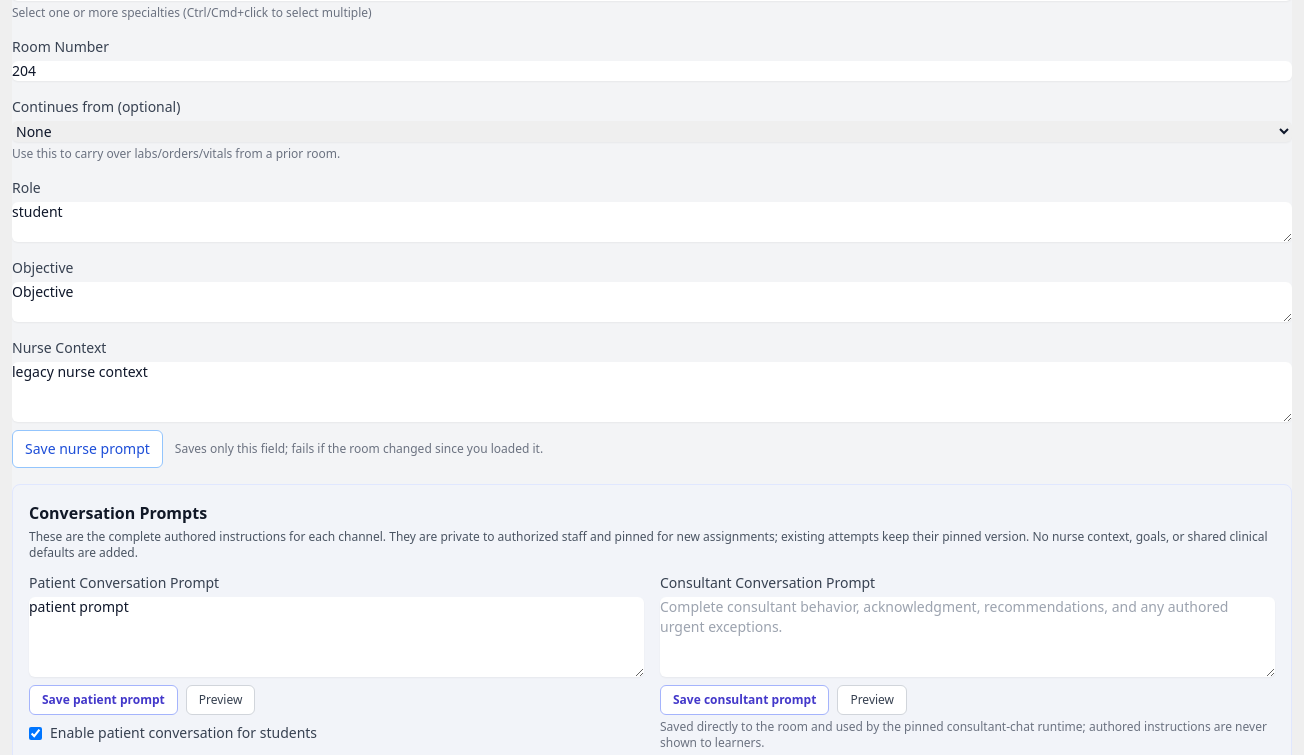
RoomEditor EMR context control › saves only the nurse prompt, scoped by id/school/updated_at, and shows the timestamp
(page scrolled)
Step 1. Replace the text in the text box labelled "Nurse Context" with "edited nurse text" → {"x": 652, "y": 392}, box [12, 362, 1292, 422]
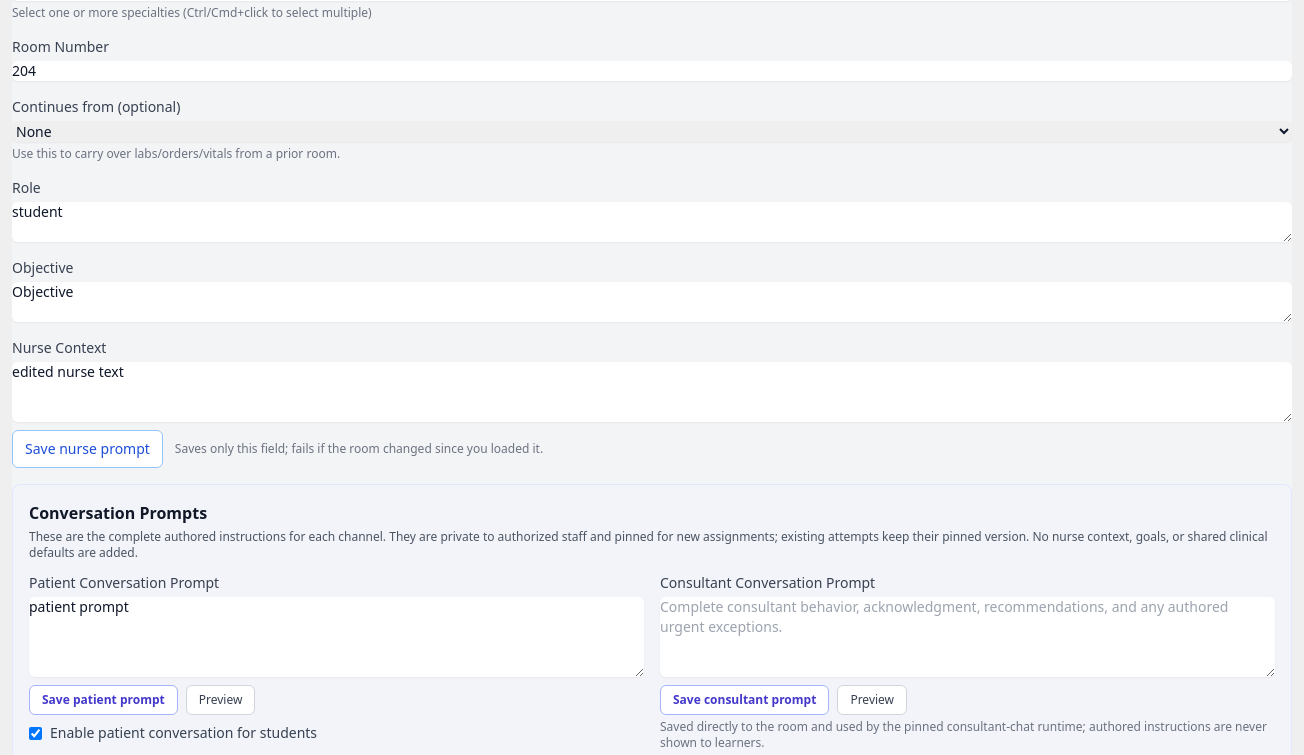
Step 2. Click the button with test id "save-nurse-prompt" → {"x": 87, "y": 449}, box [12, 430, 163, 468]
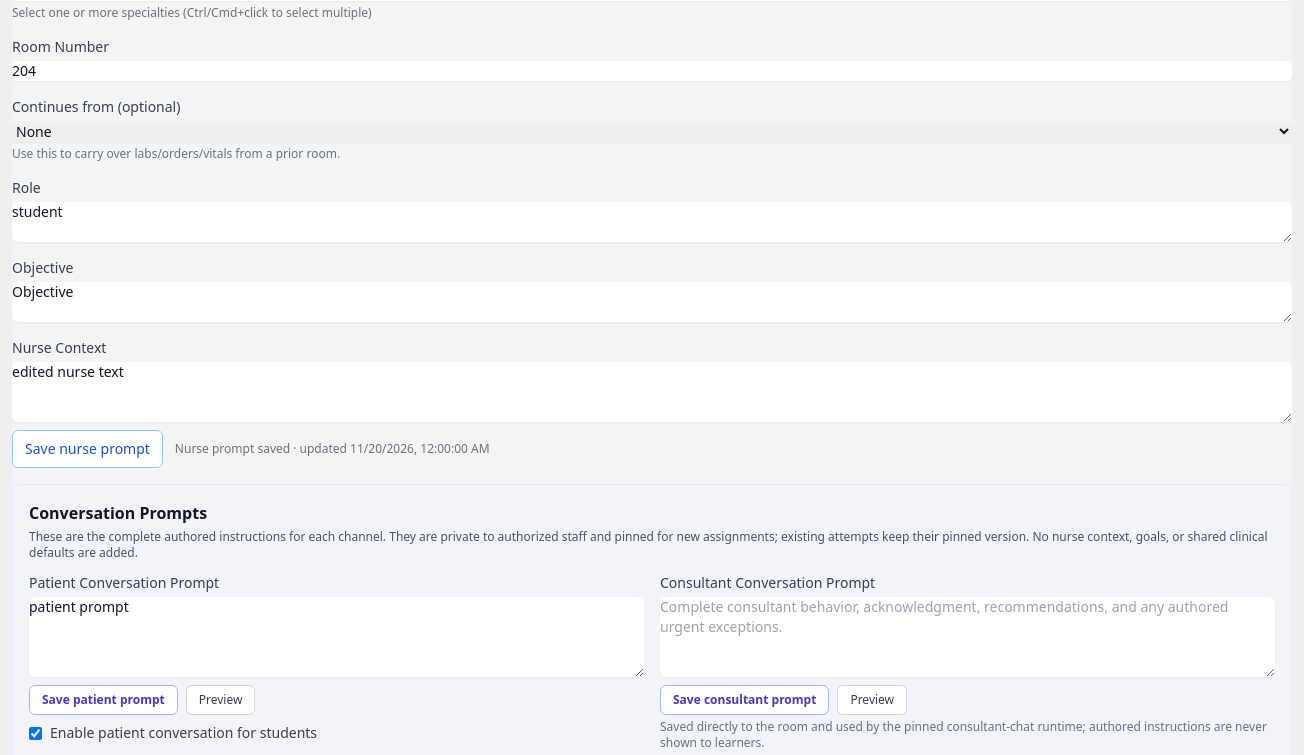
Expected: the message with test id "nurse-prompt-status" shows "Nurse prompt saved", [175, 440, 490, 457]
